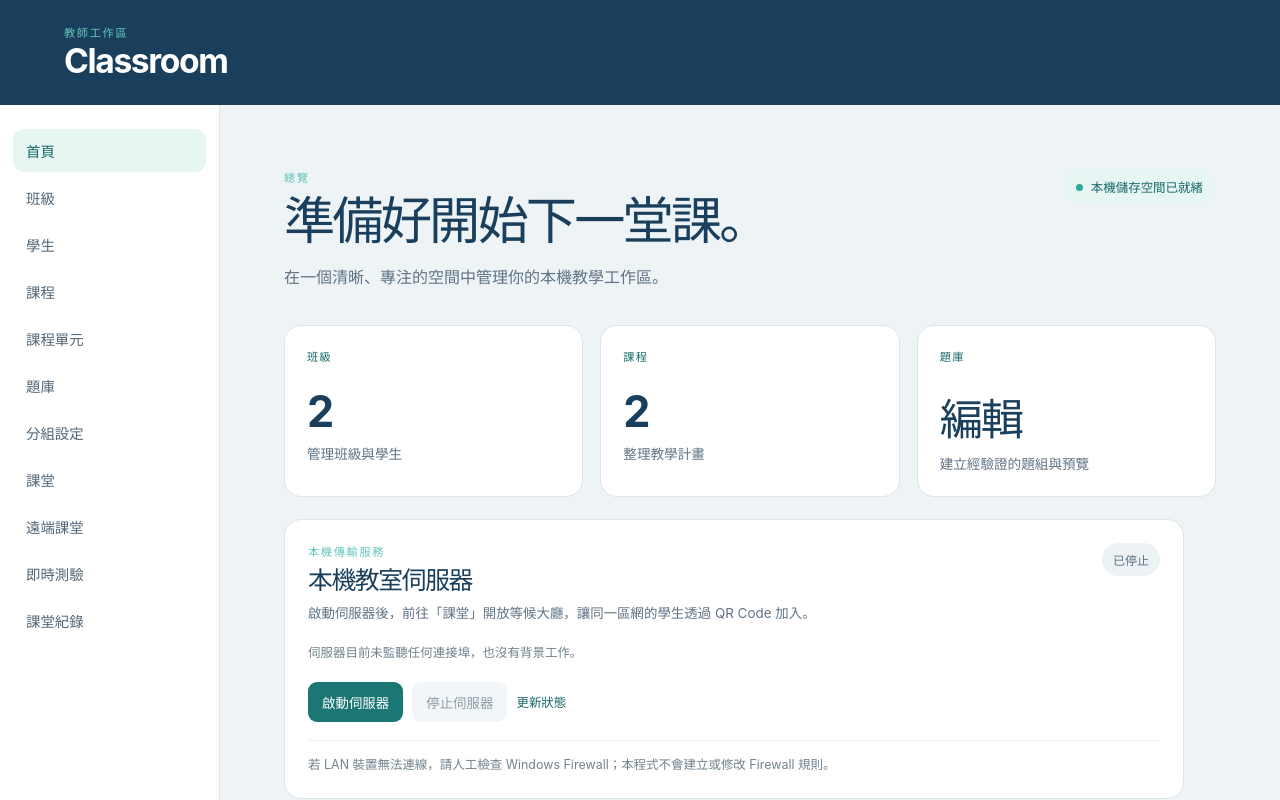
it: Phase 14 distinguishes 學生 loading, empty, failed and obsolete requests
Expected: the text "本機儲存空間已就緒" is shown, 1063,169 -> 1216,205
Click the button "學生".
click(110, 244)  # box 13,223 -> 206,266
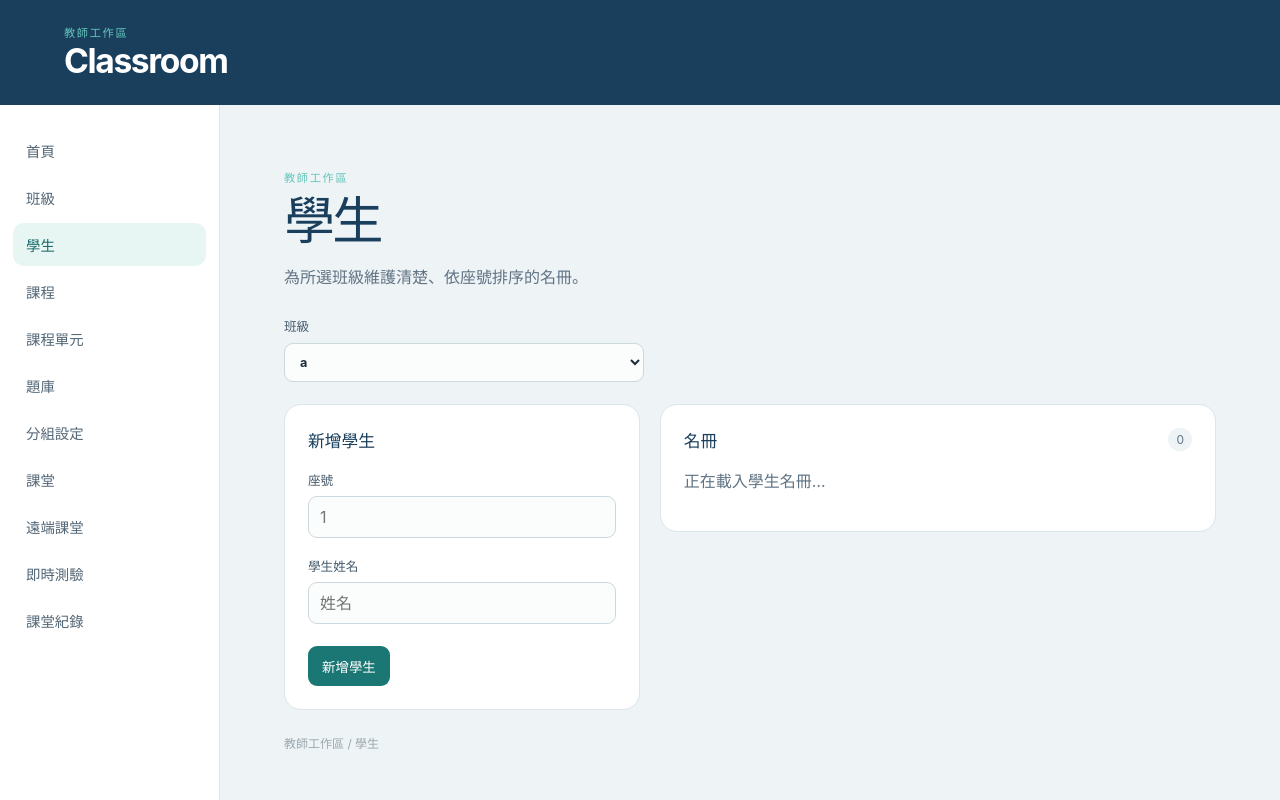
Expected: the text "這個班級尚未有學生。" is not shown
Expected: the message reads "正在載入學生名冊…", 684,471 -> 826,491
Select "b" in the dropdown labelled "班級" at [464, 362], box 284,343 -> 644,382
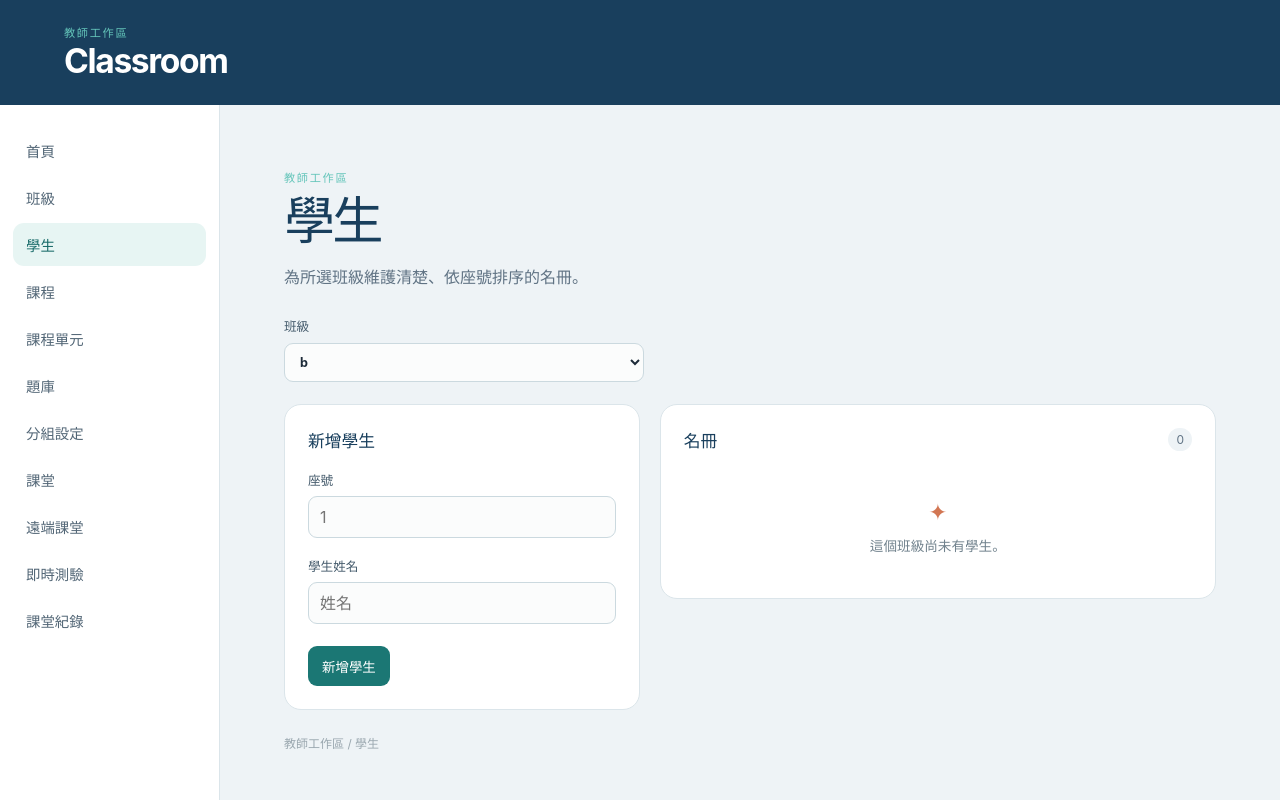
Expected: the text "這個班級尚未有學生。" is shown, 870,538 -> 1006,554
Expected: the message "正在載入學生名冊…" is gone
Select "a" in the dropdown labelled "班級" at [464, 362], box 284,343 -> 644,382
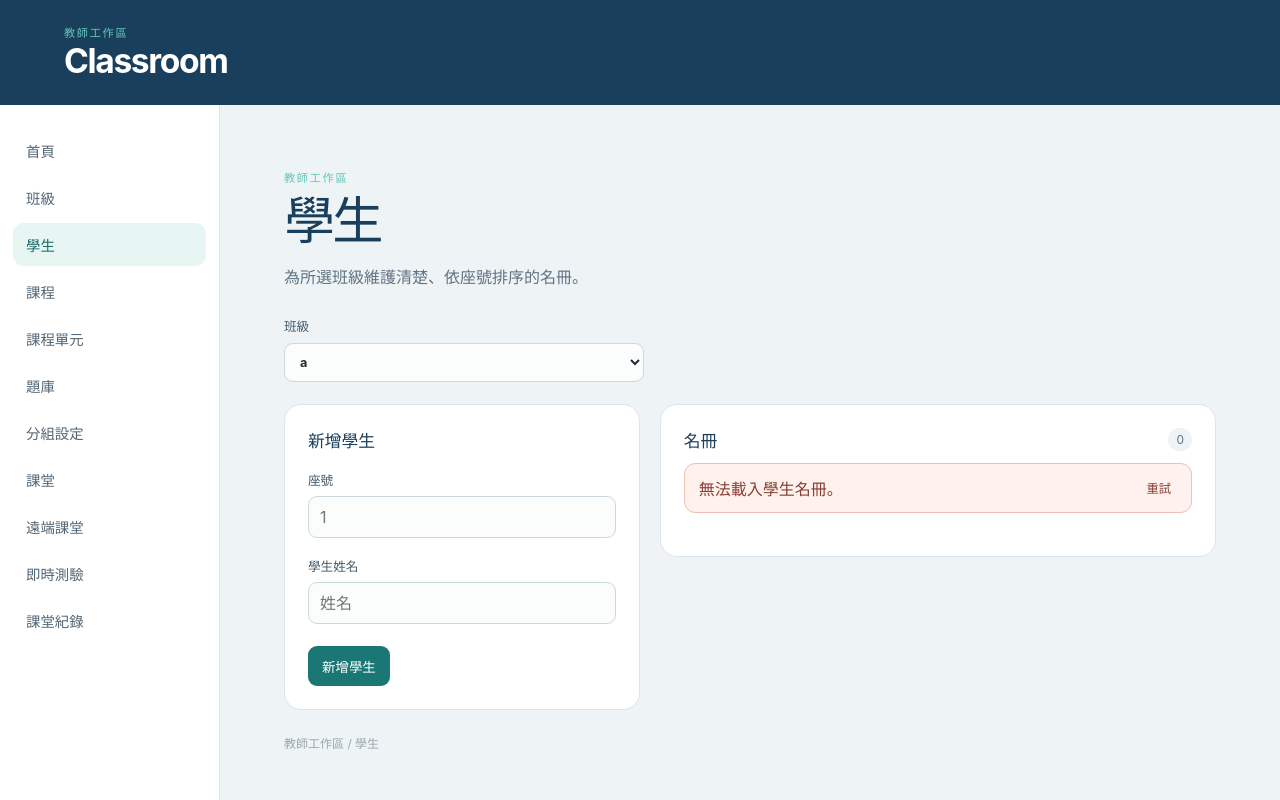
Expected: the message shows "無法載入學生名冊。", 699,479 -> 843,499
Expected: the text "這個班級尚未有學生。" is gone
Click the button "重試".
click(1159, 488)  # box 1140,478 -> 1177,498
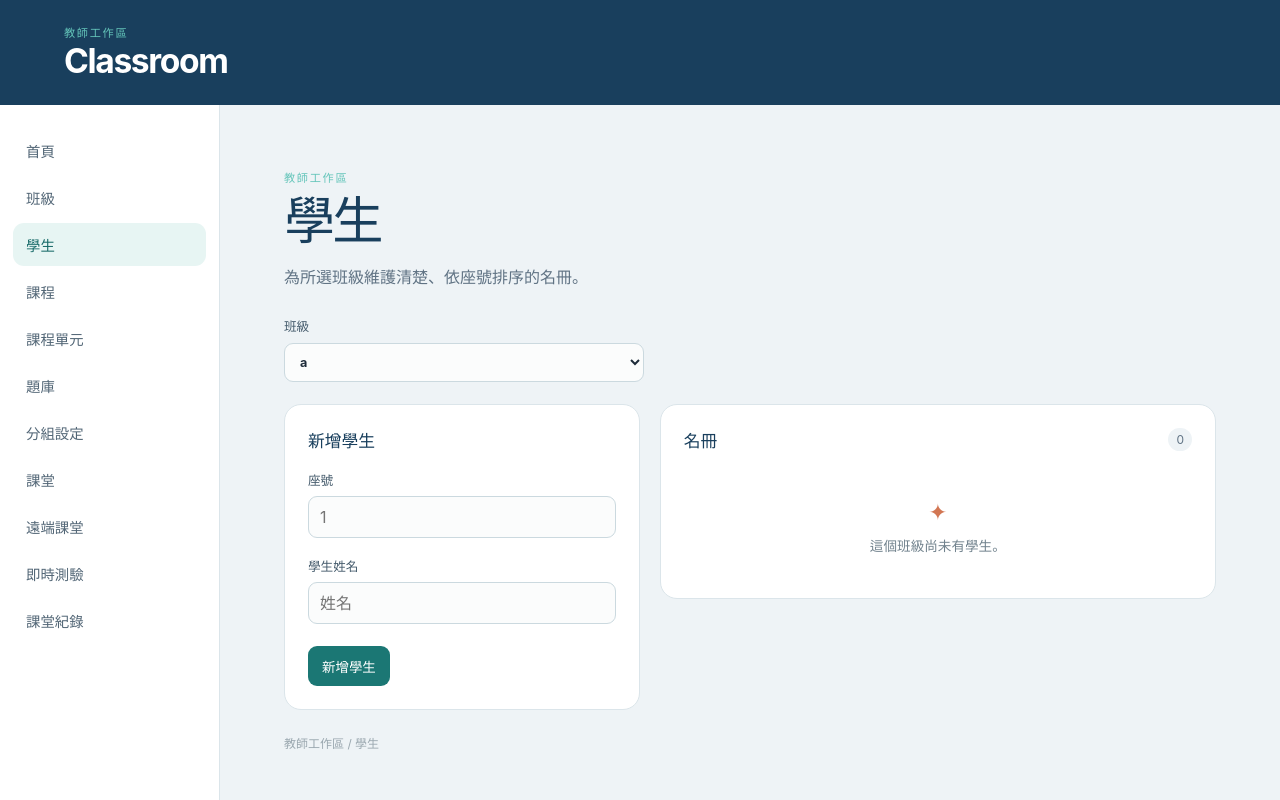
Expected: the text "這個班級尚未有學生。" is shown, 870,538 -> 1006,554
